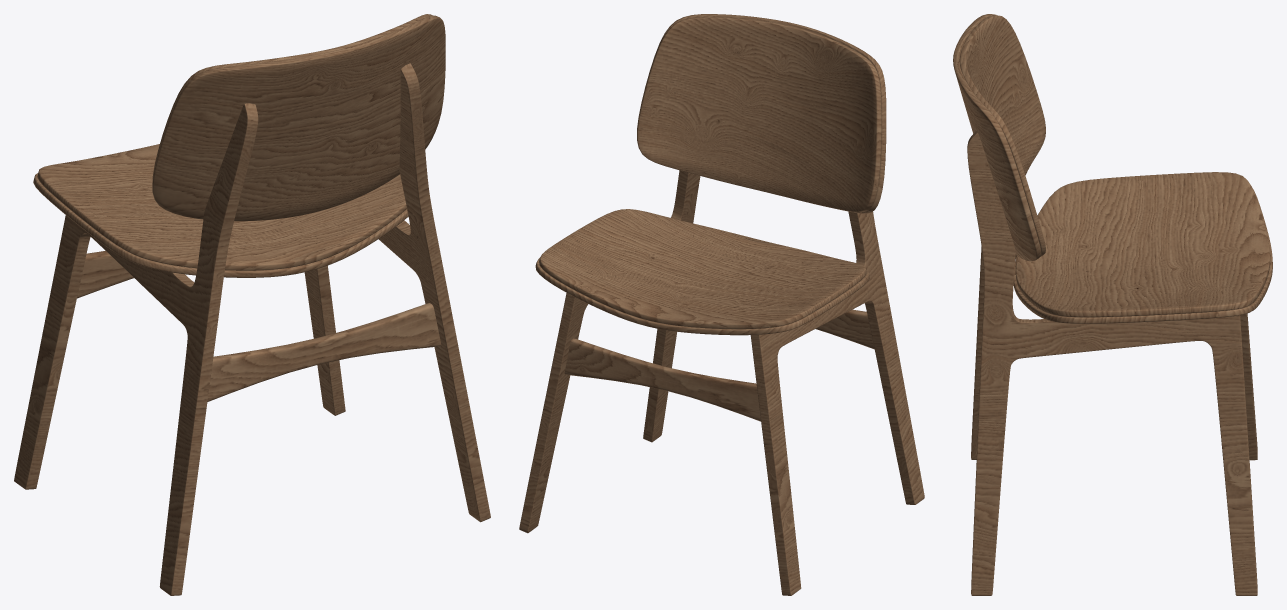
Rendered from Chair08.fbx.
The picture shows the model from 3 angles, left to right: view 1: azimuth 30°, elevation 25°; view 2: azimuth 150°, elevation 25°; view 3: azimuth 270°, elevation 25°; orthographic projection. The views are drawn at different scales.
Visible parts, largest first — view 1: Chair08; view 2: Chair08; view 3: Chair08.
Part boxes in pixels (x1,y1,x2,y2): Chair08: (14,14,490,595); Chair08: (519,14,924,595); Chair08: (953,14,1272,595).
Size of the model in its own units: 51.84 by 79.58 by 49.3.
